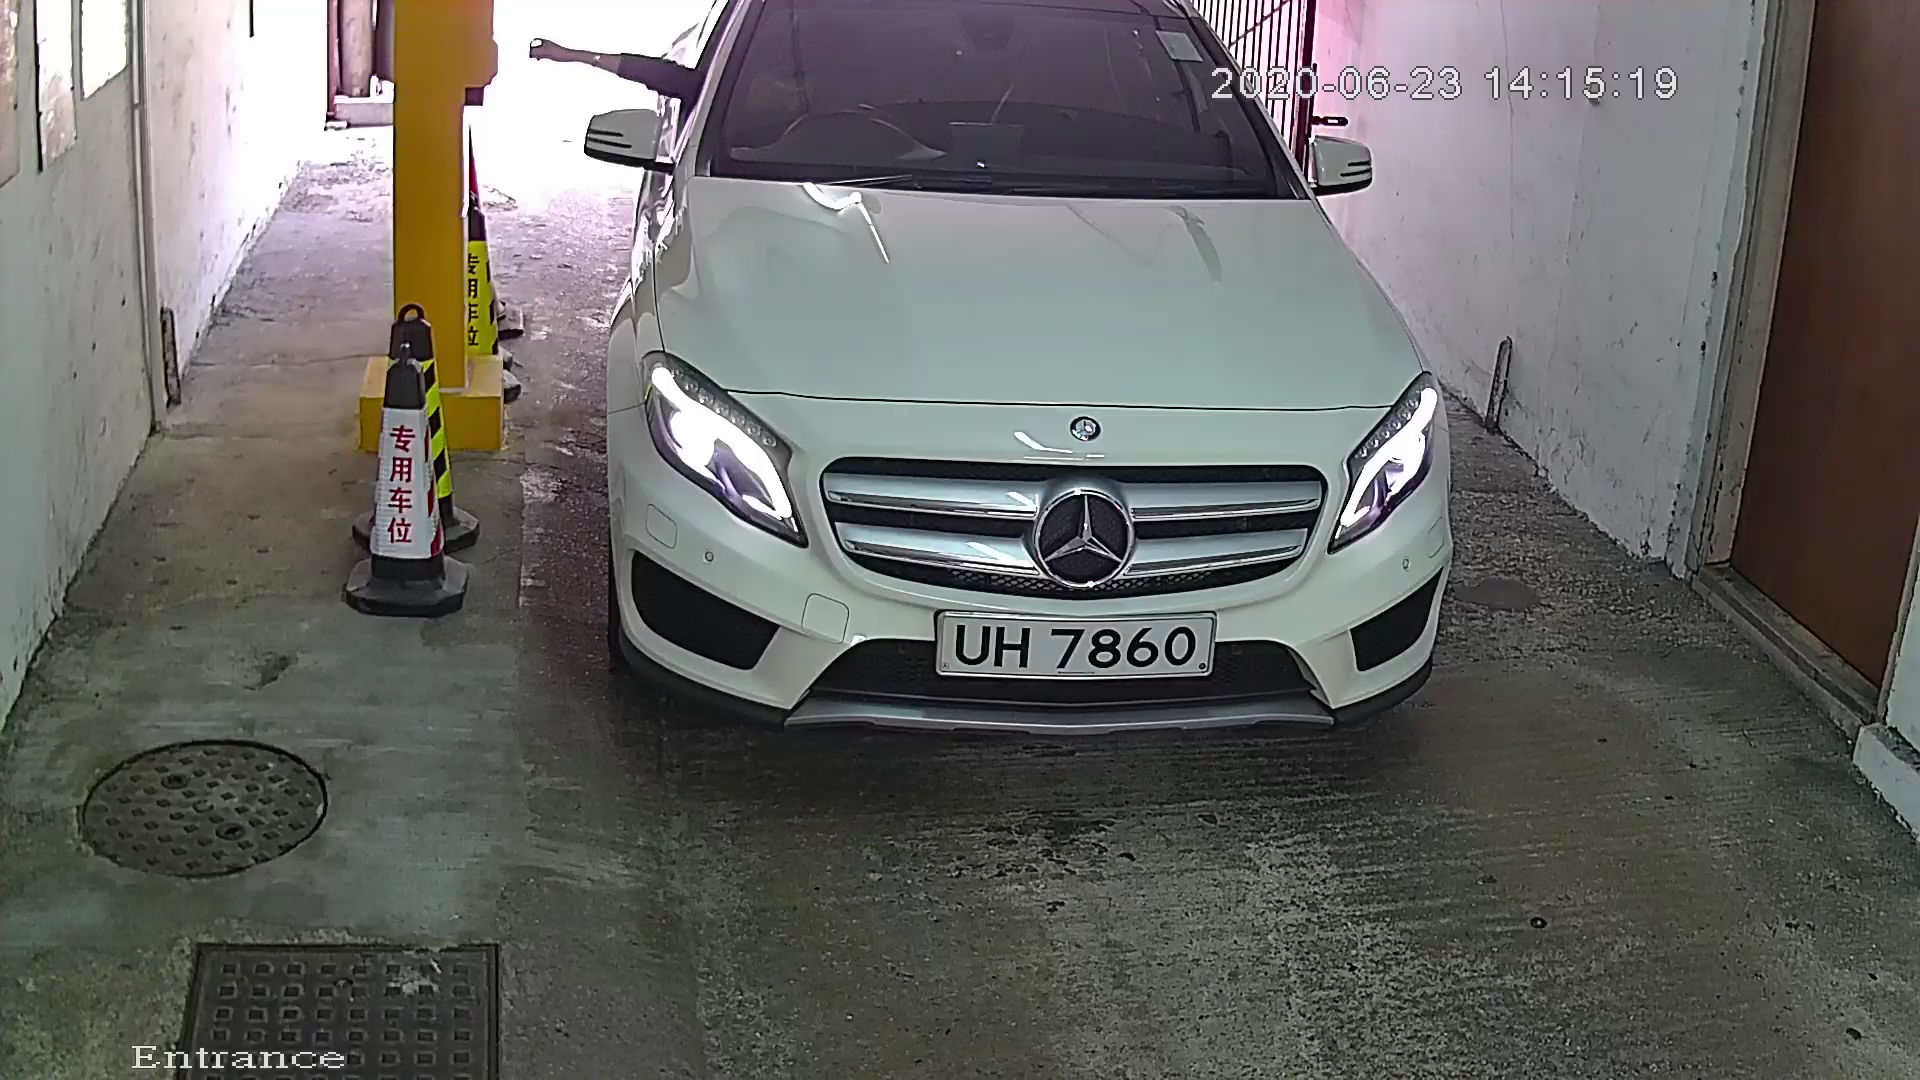privatecar: (558, 3, 1522, 785)
